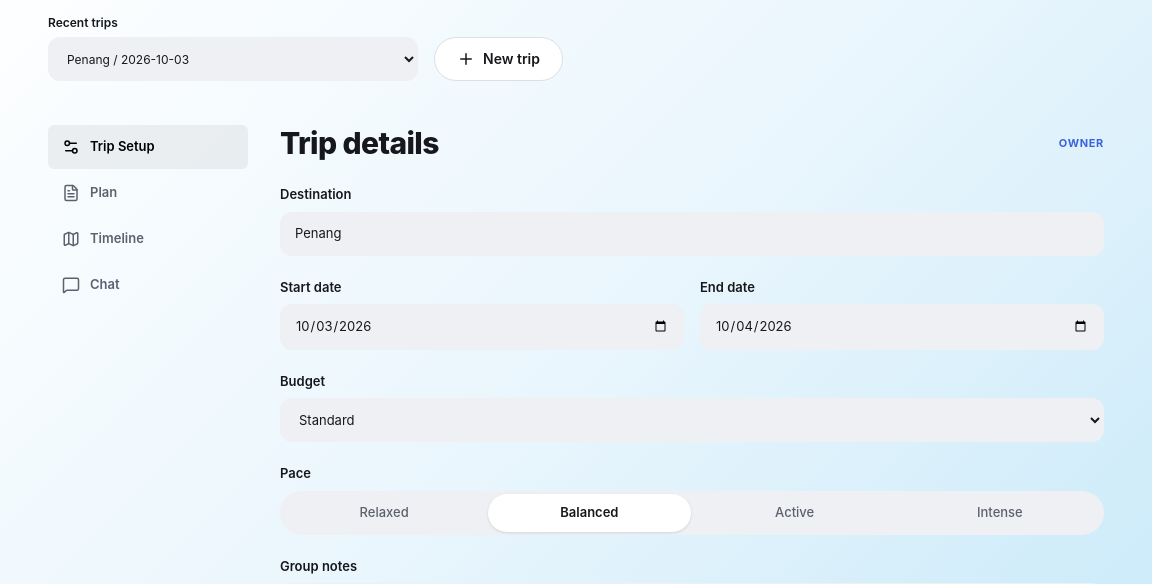
Scenario: trip workspace › keeps the active itinerary during generation and failure and locks competing actions
Click the tab "Plan" at (148, 193), box [48,171,248,215]
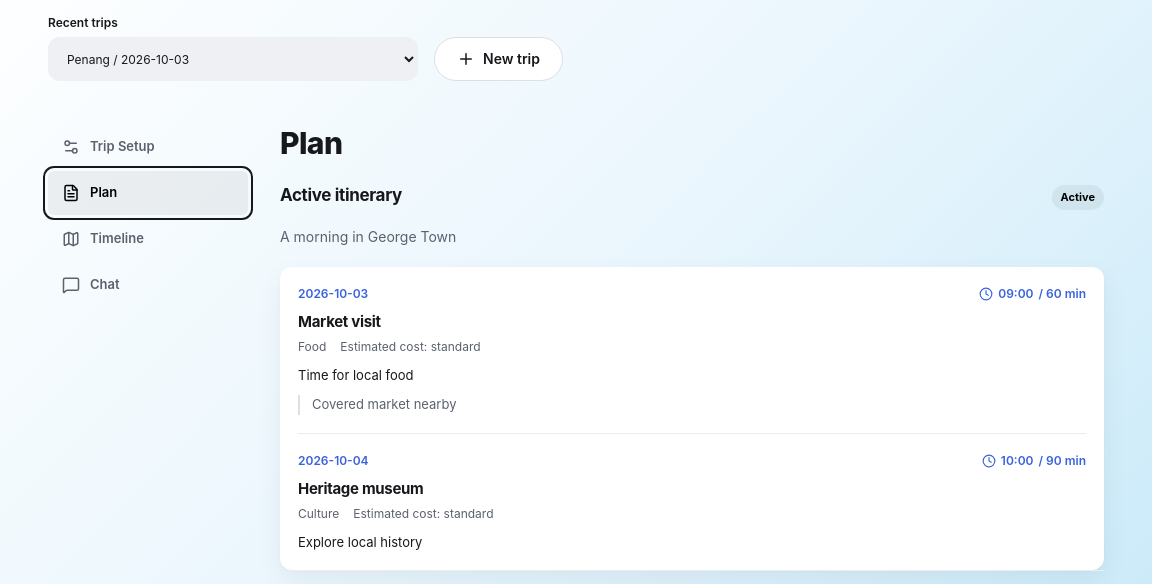
Expected: the heading "Active itinerary" is shown, [280,185,402,205]
Click the tab "Trip Setup" at (148, 147), box [48,125,248,169]
(page scrolled)
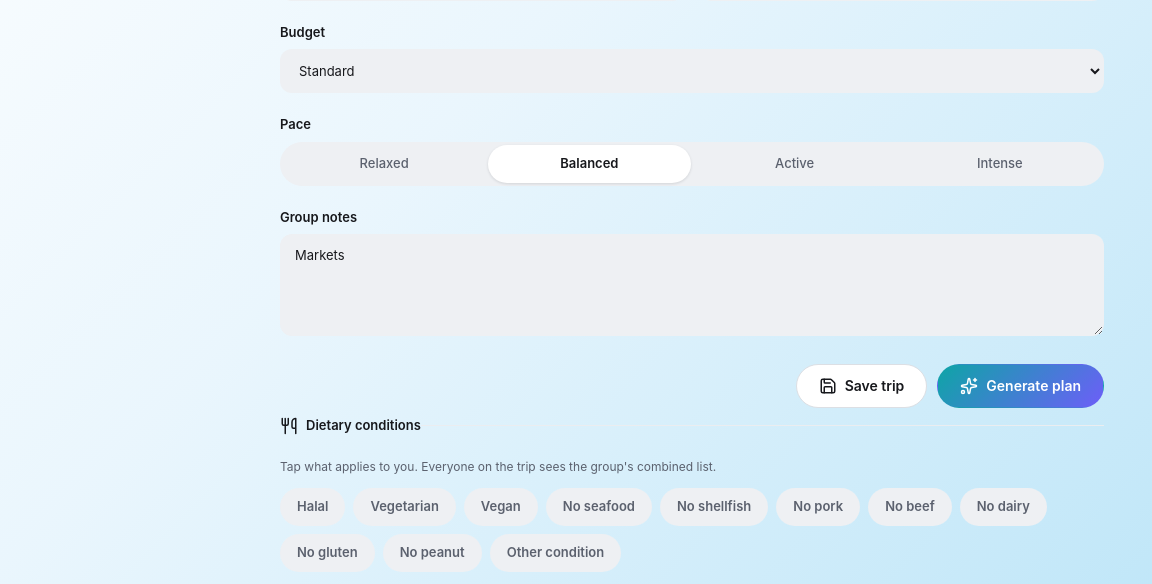
Click the button "Generate plan" at (1021, 386), box [937,364,1104,408]
(page scrolled)
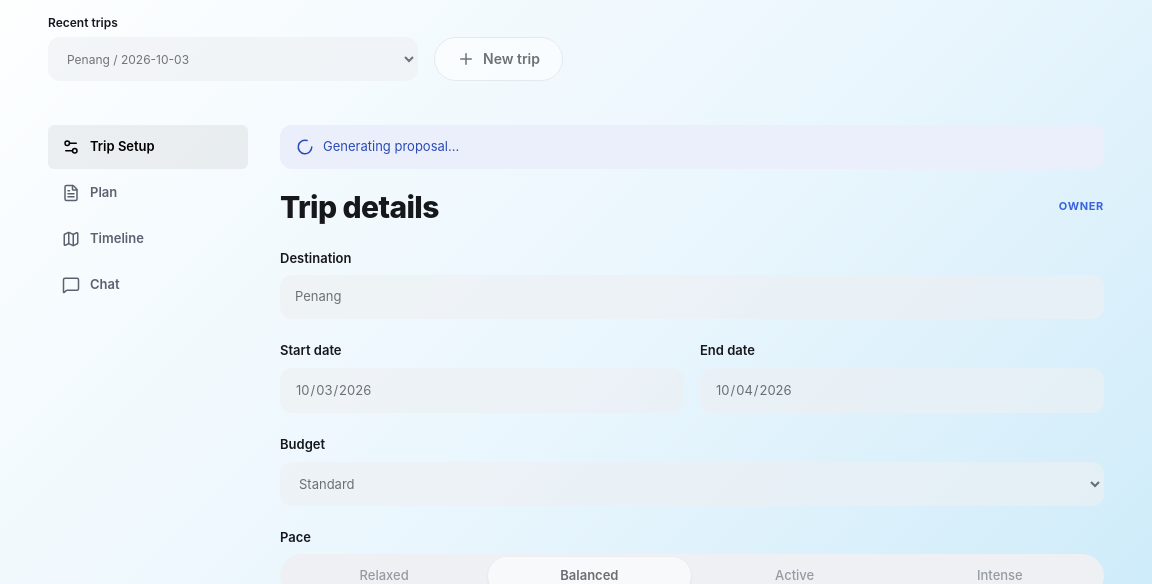
Expected: the text "Generating proposal..." is shown, [280,125,1104,168]
Expected: the button "New trip" is disabled, [434,37,563,81]
Expected: the dropdown labelled "Recent trips" is disabled, [48,37,418,81]
Click the tab "Plan" at (148, 193), box [48,171,248,215]
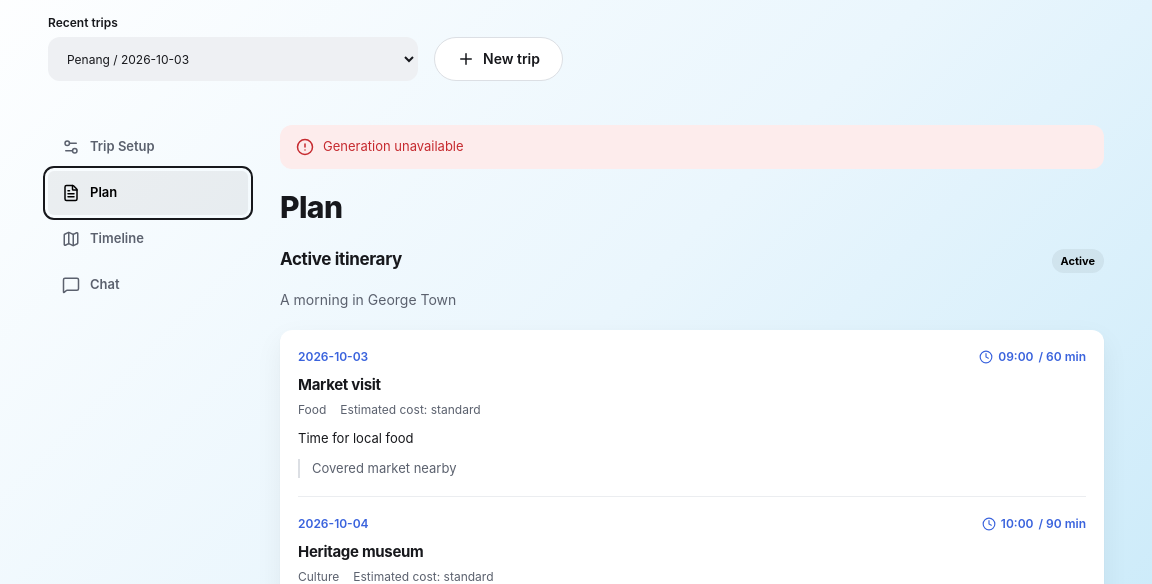
Expected: the message reads "Generation unavailable", [323,138,464,154]
Expected: the heading "Market visit" is shown, [298,375,381,394]
